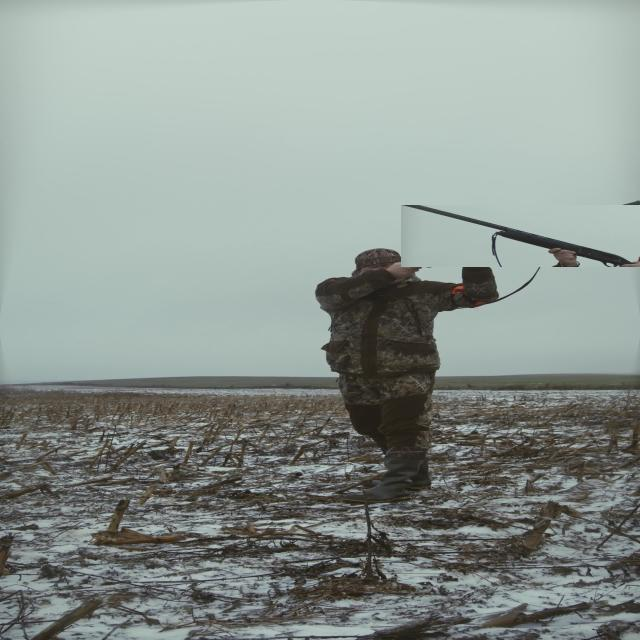poacher: (282, 226, 523, 492)
weapon: (401, 205, 640, 267)
